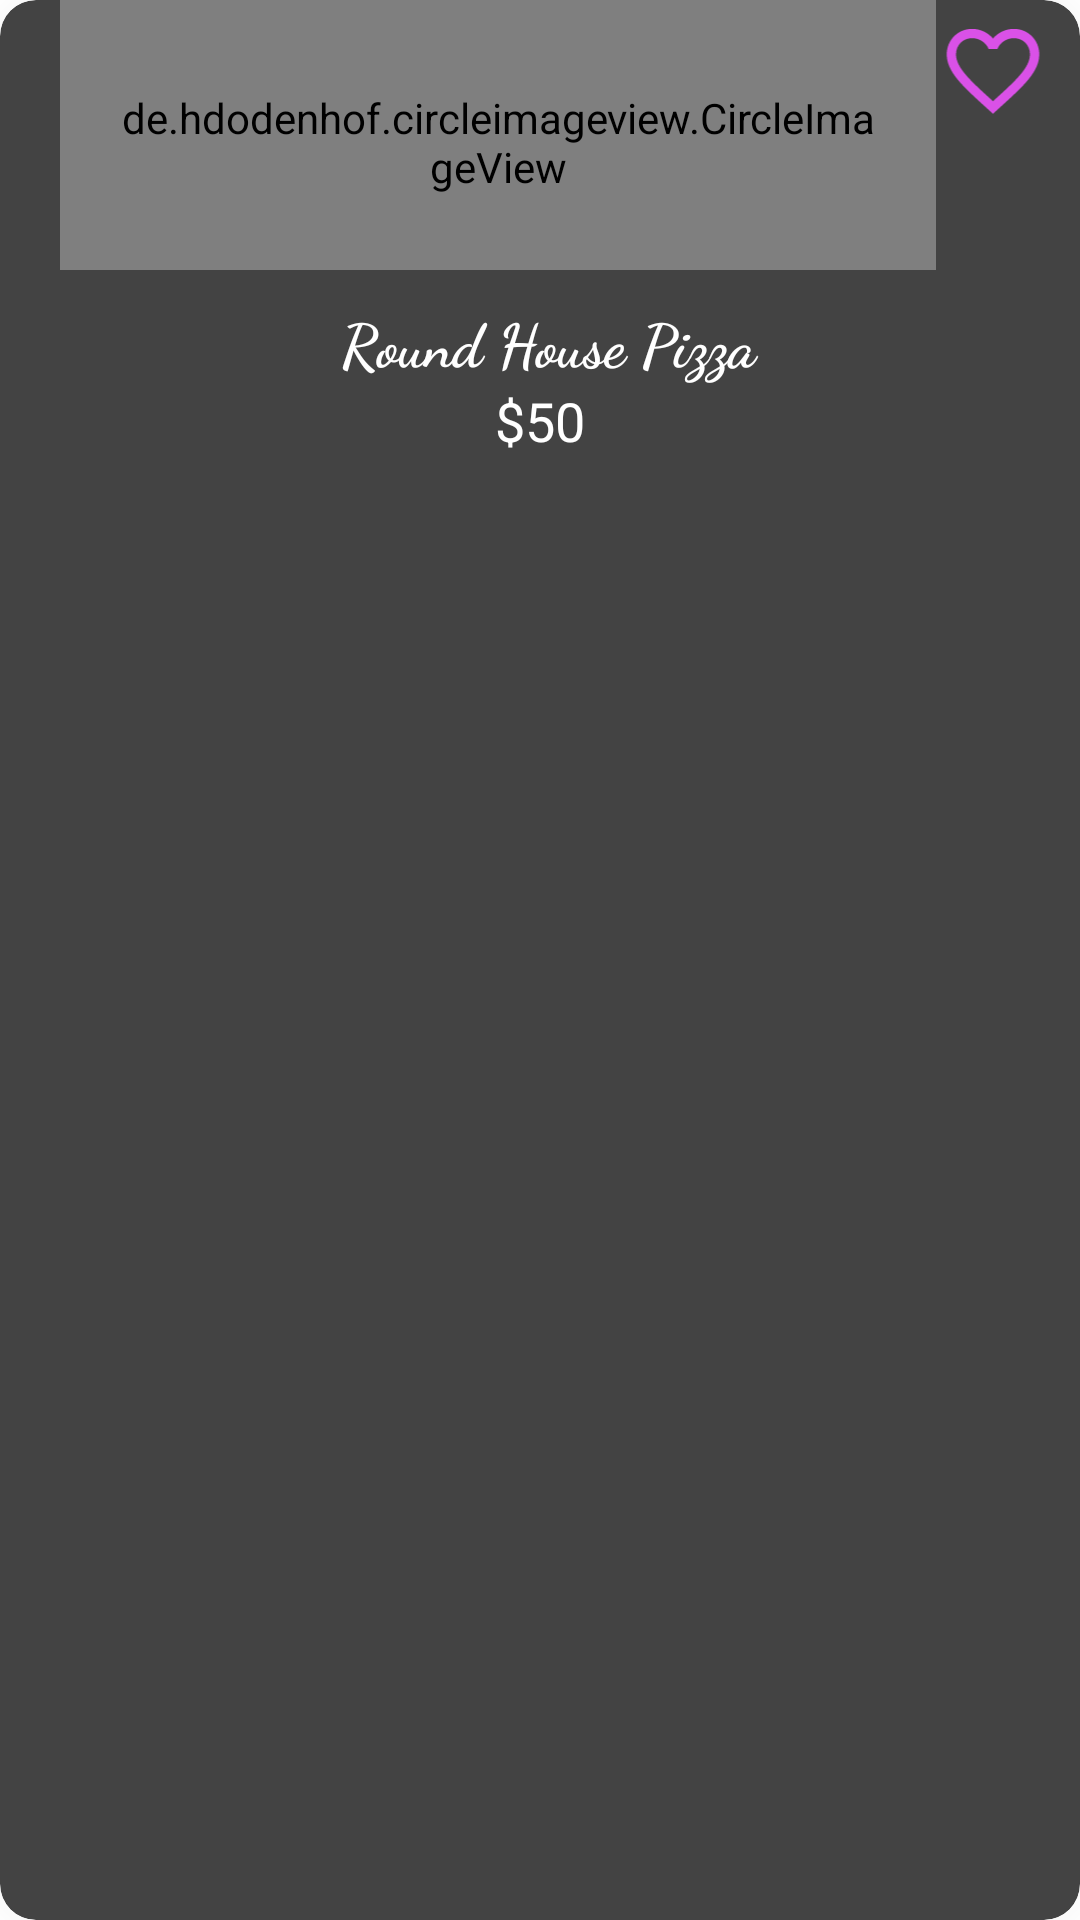

Icon bounding boxes for this 1080px x 1920px phone screenshot, format BBox(x1, y1, x2, y2):
emptyfav: BBox(946, 29, 1040, 114)
